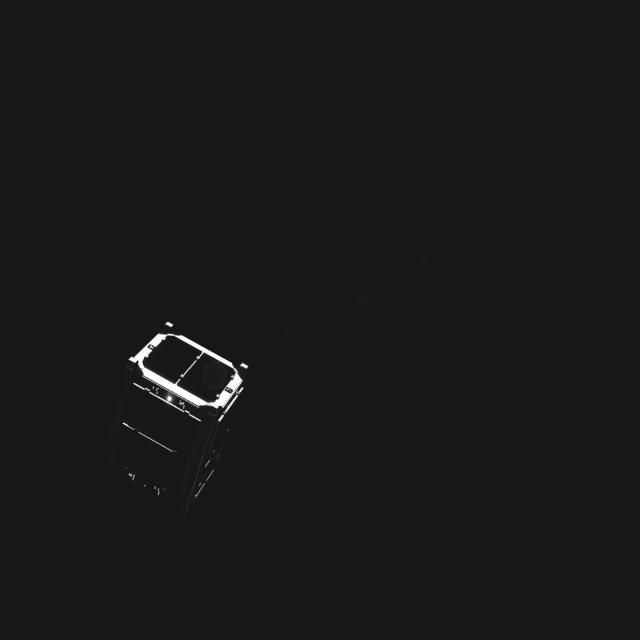satellite: (115, 312, 254, 516)
